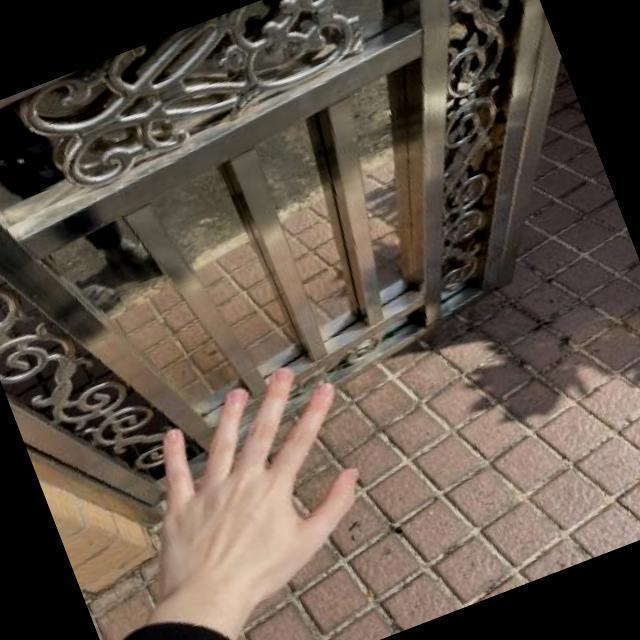hand: (92, 338, 408, 640)
